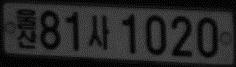0: (196, 16, 219, 58), (144, 14, 167, 55)
1: (62, 11, 85, 51), (120, 13, 141, 54)
2: (170, 15, 192, 57)
8: (39, 9, 61, 50)
사: (88, 15, 111, 50)
울산_V: (15, 8, 38, 49)
